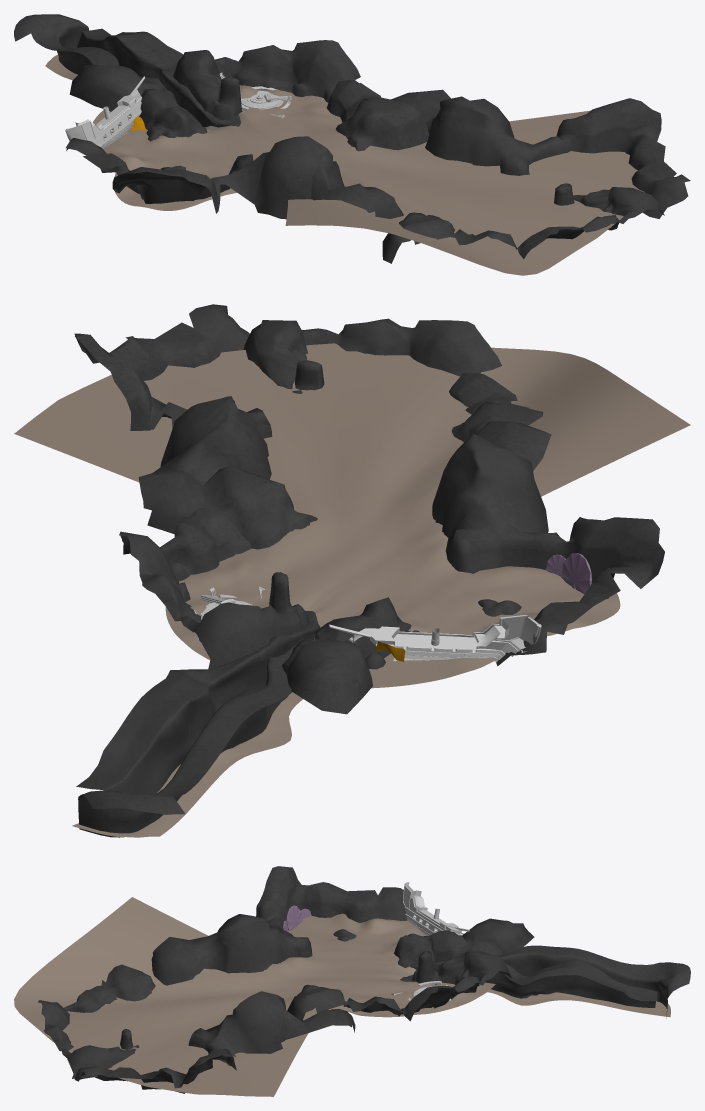
Rendered from SceneTest_Textures.fbx.
The picture shows the model from 3 angles, top to bottom: view 1: azimuth 30°, elevation 25°; view 2: azimuth 150°, elevation 25°; view 3: azimuth 270°, elevation 25°; orthographic projection. The views are drawn at different scales.
Parts seen in each view (by area): view 1: RockWallMesh, FloorMesh, TrenchWallMesh, ShipMesh, RuinBase; view 2: FloorMesh, RockWallMesh, TrenchWallMesh, ShipMesh, ClamShellMeshes; view 3: FloorMesh, RockWallMesh, TrenchWallMesh, ShipMesh, ClamShellMeshes.
Boxes of the visible parts, left/top/right/bottom form: RockWallMesh: left=66, top=40, right=690, bottom=263; FloorMesh: left=45, top=54, right=644, bottom=275; TrenchWallMesh: left=14, top=14, right=241, bottom=127; ShipMesh: left=65, top=76, right=144, bottom=148; RuinBase: left=241, top=91, right=283, bottom=109; FloorMesh: left=14, top=343, right=690, bottom=837; RockWallMesh: left=74, top=304, right=664, bottom=714; TrenchWallMesh: left=76, top=611, right=320, bottom=837; ShipMesh: left=329, top=615, right=541, bottom=662; ClamShellMeshes: left=546, top=553, right=591, bottom=593; FloorMesh: left=14, top=897, right=670, bottom=1096; RockWallMesh: left=38, top=866, right=534, bottom=1093; TrenchWallMesh: left=400, top=945, right=690, bottom=1018; ShipMesh: left=403, top=882, right=469, bottom=936; ClamShellMeshes: left=283, top=905, right=311, bottom=931.
Bounding box in the file's own units: 164 × 34.49 × 236.
